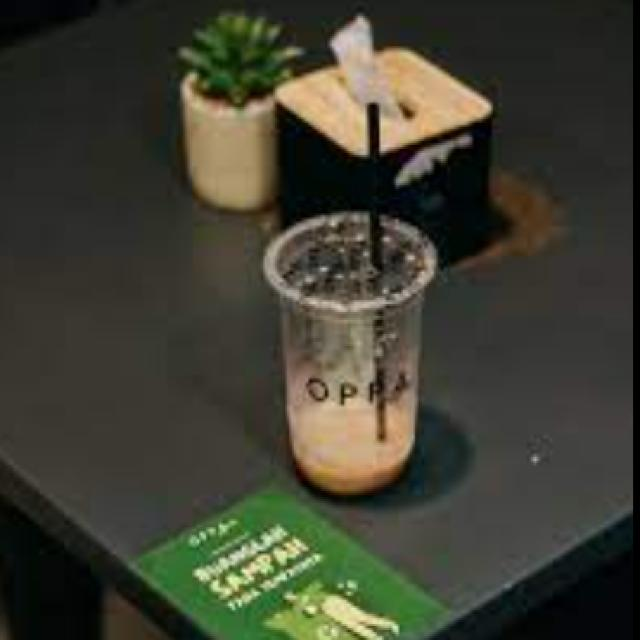GelasPlastik: (260, 207, 438, 495)
